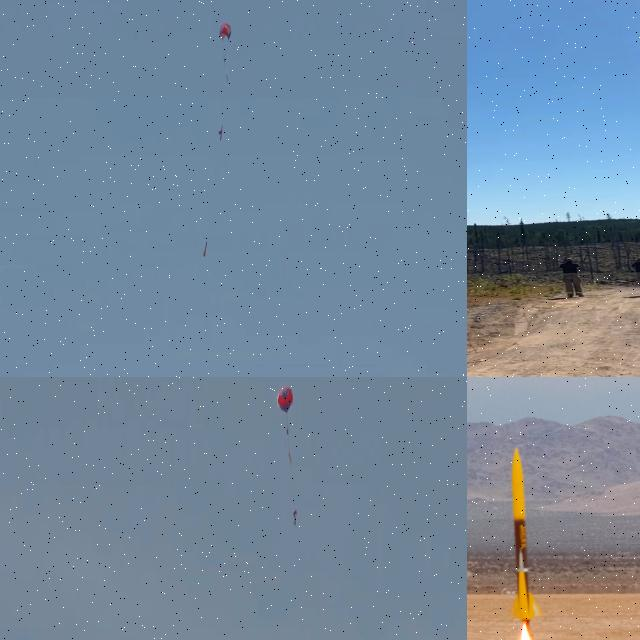Rocket: (506, 446, 546, 621), (203, 242, 207, 256)
